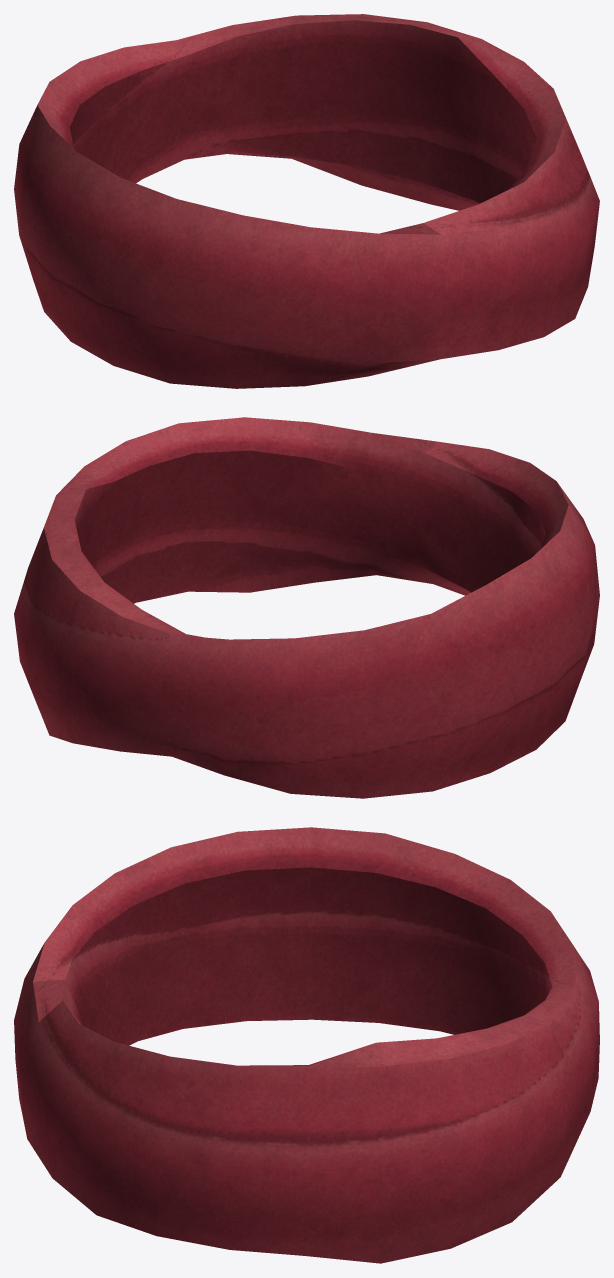
File: IG_FackMask_Blindfold.fbx
3 renders of one model, top to bottom at view 1: azimuth 30°, elevation 25°; view 2: azimuth 150°, elevation 25°; view 3: azimuth 270°, elevation 25°, orthographic. The views are drawn at different scales.
Visible parts, largest first — view 1: Player_Head_Mangseng; view 2: Player_Head_Mangseng; view 3: Player_Head_Mangseng.
Boxes of the visible parts, x1=… form: Player_Head_Mangseng: x1=14, y1=14, x2=599, y2=388; Player_Head_Mangseng: x1=14, y1=417, x2=599, y2=798; Player_Head_Mangseng: x1=14, y1=827, x2=599, y2=1263.
Size of the model in its own units: 0.626 by 0.242 by 0.6113.
